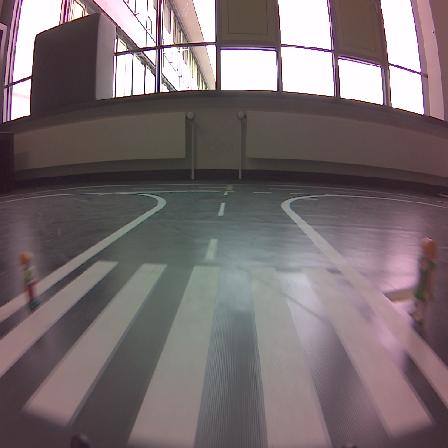CHILD: (410, 237, 436, 322), (19, 252, 37, 309)
